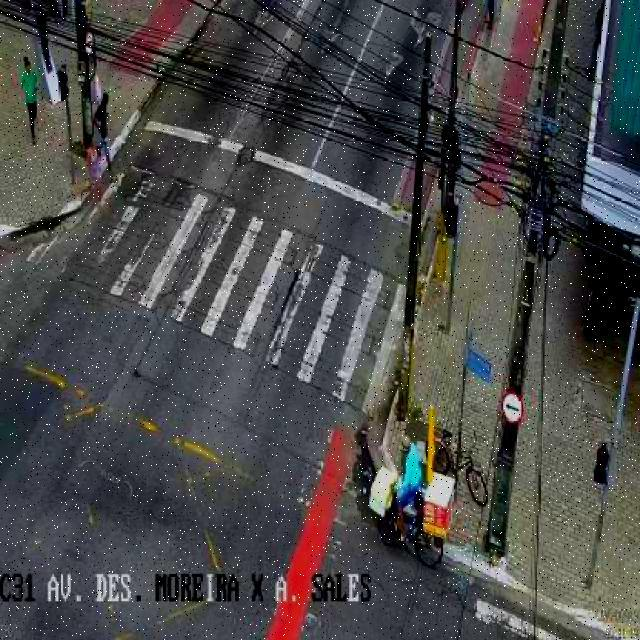pedestrian: (19, 56, 39, 144)
traffic-lights: (594, 442, 610, 484)
